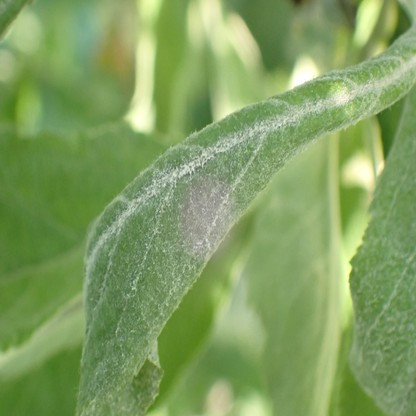powder: (77, 47, 416, 415), (349, 88, 416, 416)
